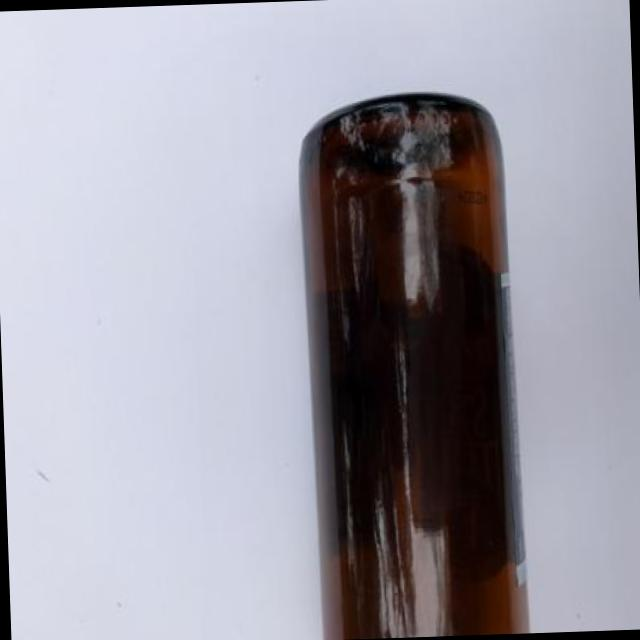chai_thuy_tinh: (300, 93, 530, 640)
